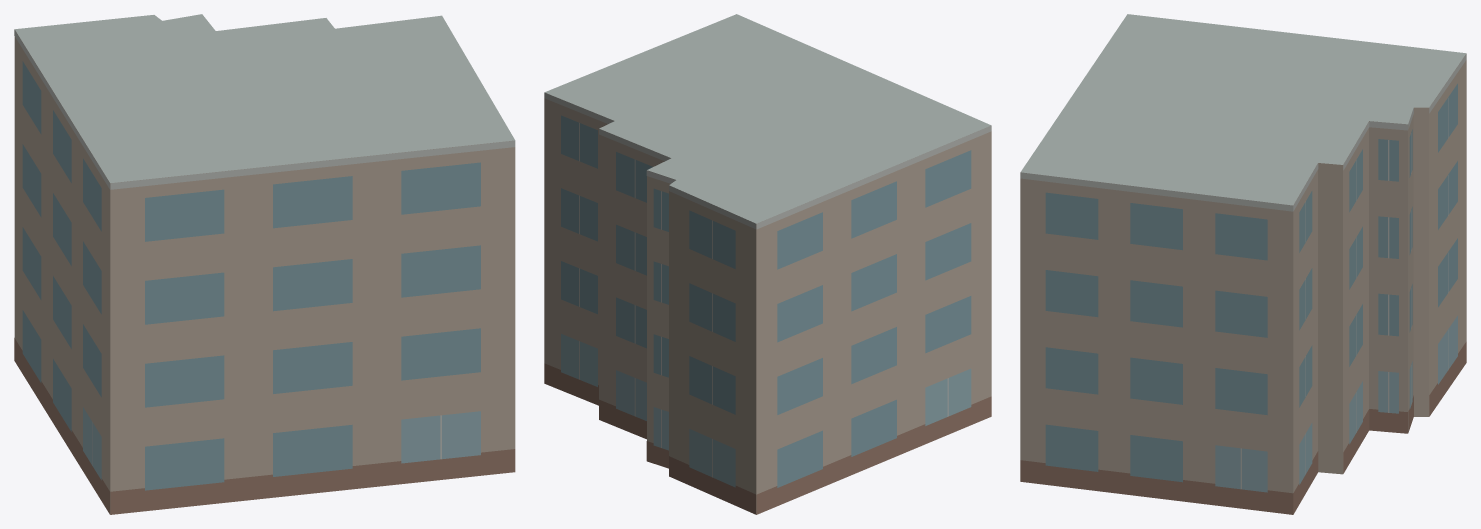
Rendered from survey-upis-32664063.glb.
3 views of the same model, side by side, from view 1: azimuth 30°, elevation 25°; view 2: azimuth 150°, elevation 25°; view 3: azimuth 270°, elevation 25° (orthographic). The views are drawn at different scales.
Visible parts, largest first — view 1: survey-upis-32664063.tmp; view 2: survey-upis-32664063.tmp; view 3: survey-upis-32664063.tmp.
Boxes of the visible parts, box(x1,y1,x2,y2) form: survey-upis-32664063.tmp: box(14, 14, 515, 514); survey-upis-32664063.tmp: box(544, 14, 991, 514); survey-upis-32664063.tmp: box(1020, 14, 1466, 514).
Size of the model in its own units: 16.21 by 12.2 by 15.96.
